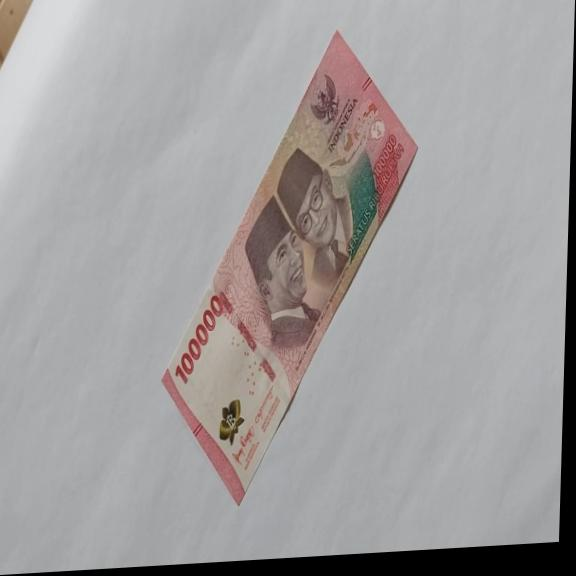Kertas: (157, 23, 423, 511), (173, 293, 224, 386)
